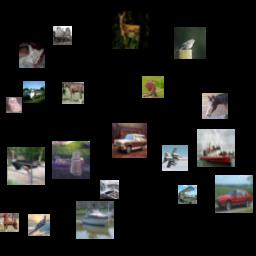airplane: (52, 141, 90, 179), (162, 145, 188, 171), (28, 214, 50, 236), (100, 180, 119, 199), (178, 185, 197, 204)
automobile: (215, 175, 253, 213), (112, 123, 147, 158)
bird: (7, 147, 45, 185), (174, 27, 206, 59), (142, 76, 164, 98)
cat: (19, 42, 45, 68), (6, 97, 22, 113)
deer: (112, 11, 150, 49)
ship: (197, 129, 235, 167), (76, 201, 114, 239)
truck: (23, 81, 45, 103), (53, 26, 72, 45)
